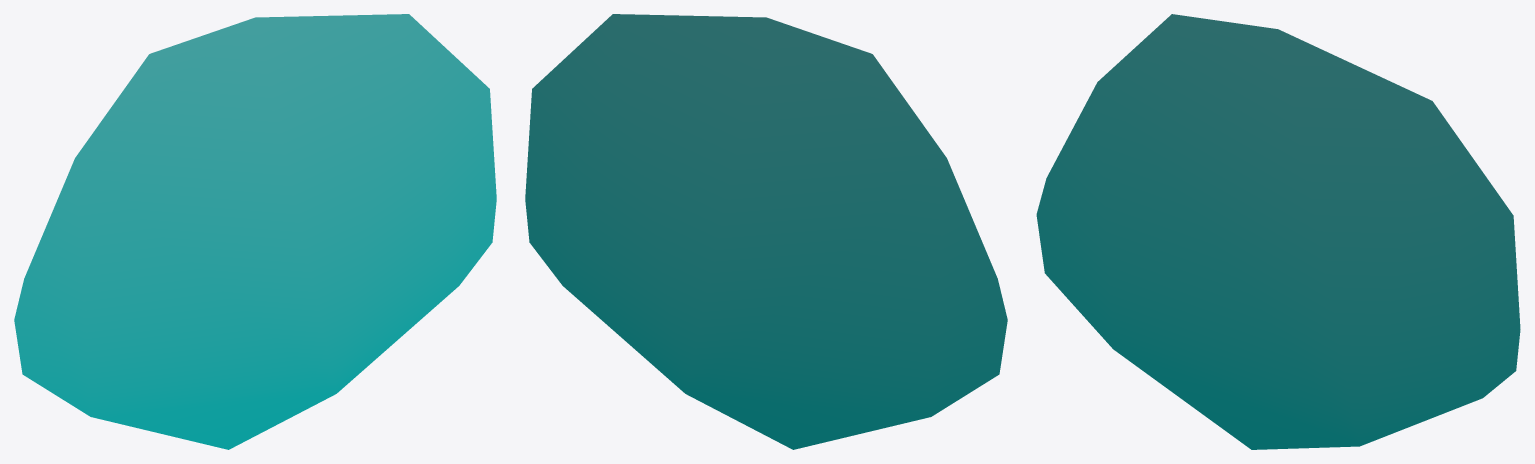
Rendered from Black_Locust_wdvhberja_Mid_wdvhberja_VarA_LOD3.fbx.
3 renders of one model, left to right at view 1: azimuth 30°, elevation 25°; view 2: azimuth 150°, elevation 25°; view 3: azimuth 330°, elevation 25°, orthographic.
Parts seen in each view (by area): view 1: _iwkq_VarA_LOD4; view 2: _iwkq_VarA_LOD4; view 3: _iwkq_VarA_LOD4.
Part boxes in pixels (left/top/right/bottom): _iwkq_VarA_LOD4: left=14, top=14, right=496, bottom=449; _iwkq_VarA_LOD4: left=525, top=14, right=1007, bottom=449; _iwkq_VarA_LOD4: left=1036, top=14, right=1520, bottom=449.
Bounding box in the file's own units: 136 × 115 × 0.
